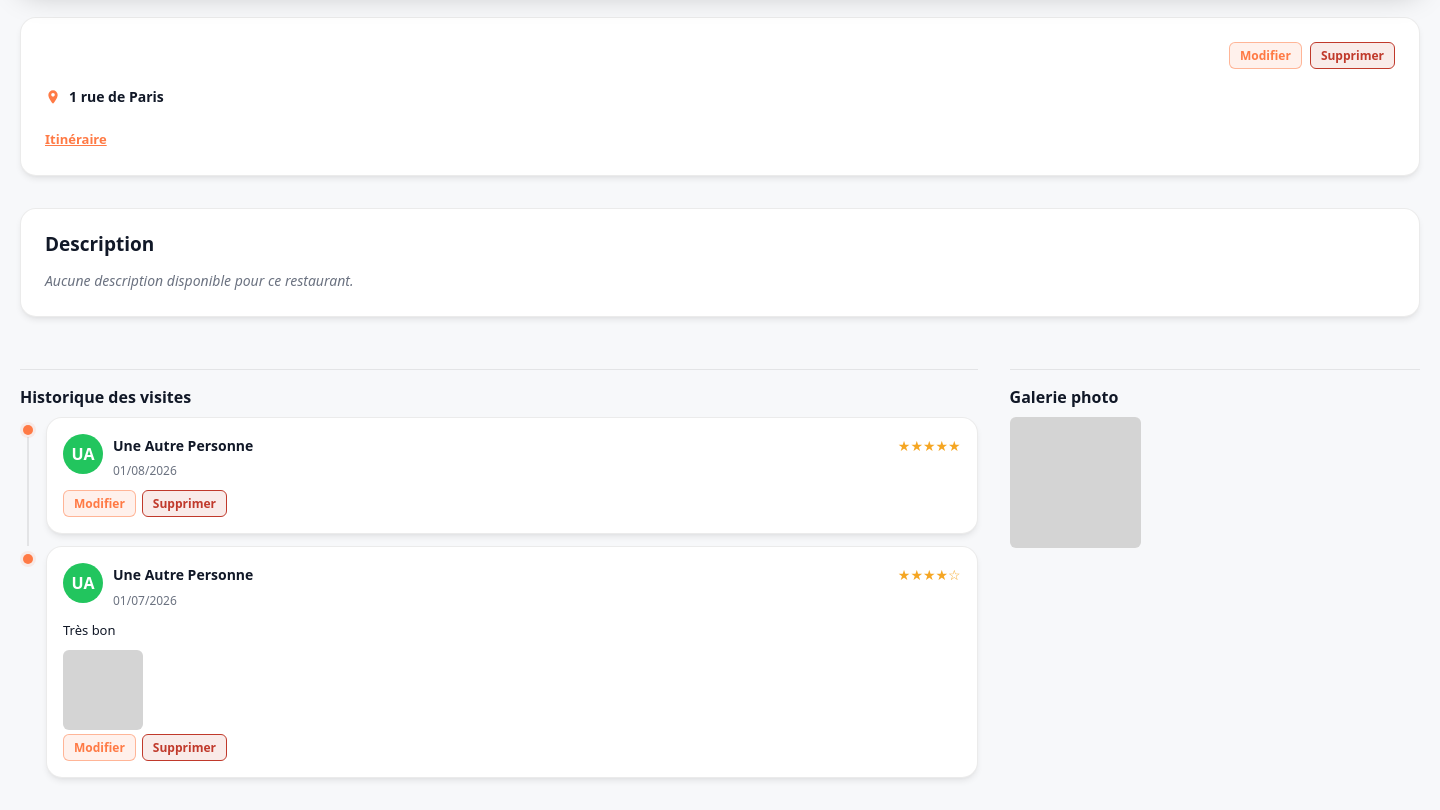
it: RestaurantDetailPage › affiche une erreur si la suppression d'une visite échoue
The image size is (1440, 810).
(page scrolled)
Click the button "Supprimer" below "01/08/2026" at (184, 504), box [142,490,227,517]
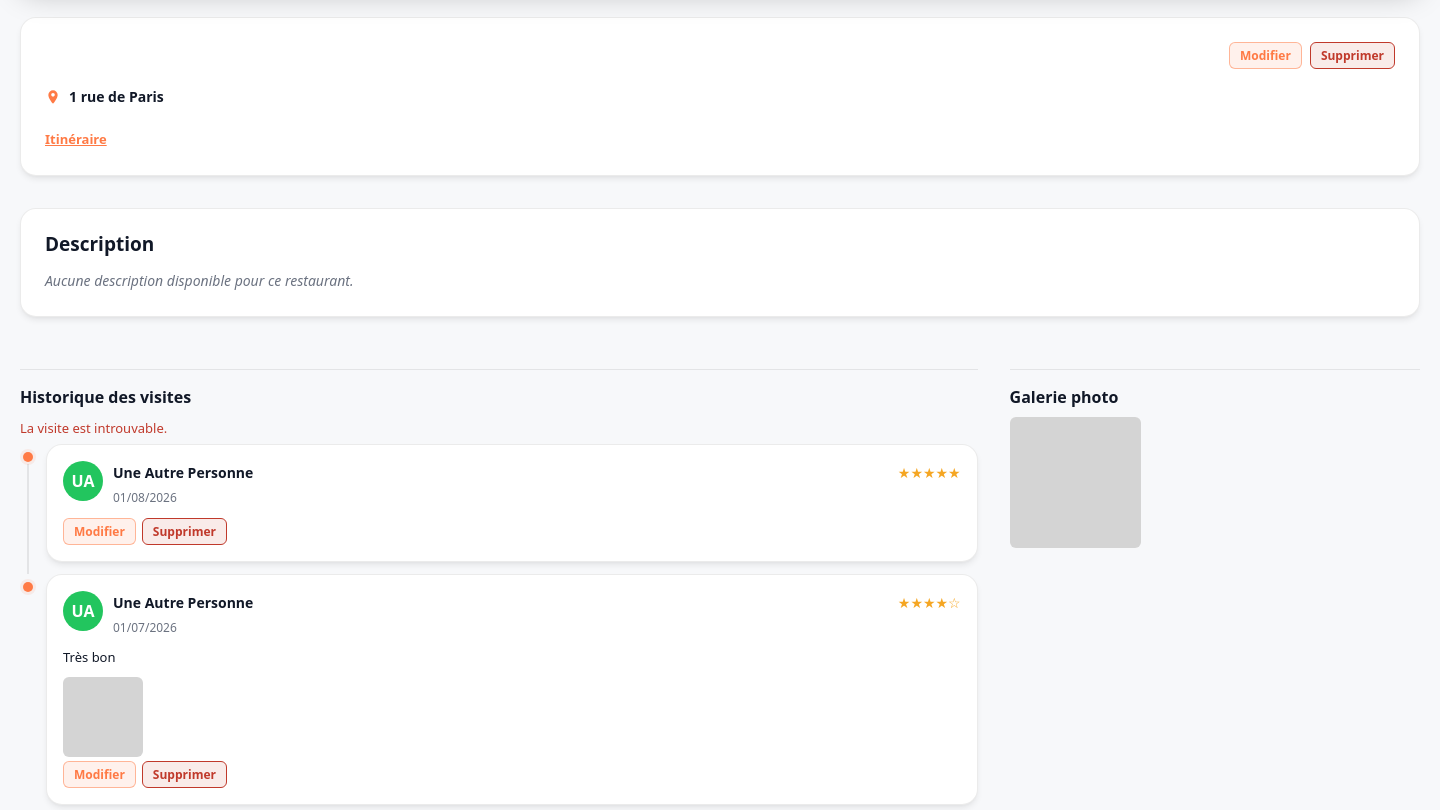
expect the text "La visite est introuvable." is shown: met, box [20,419,167,437]
